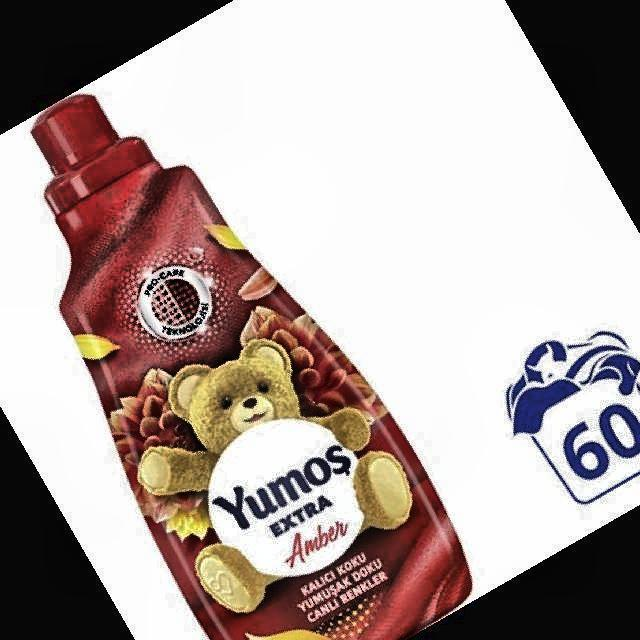plastic: (32, 96, 471, 639)
